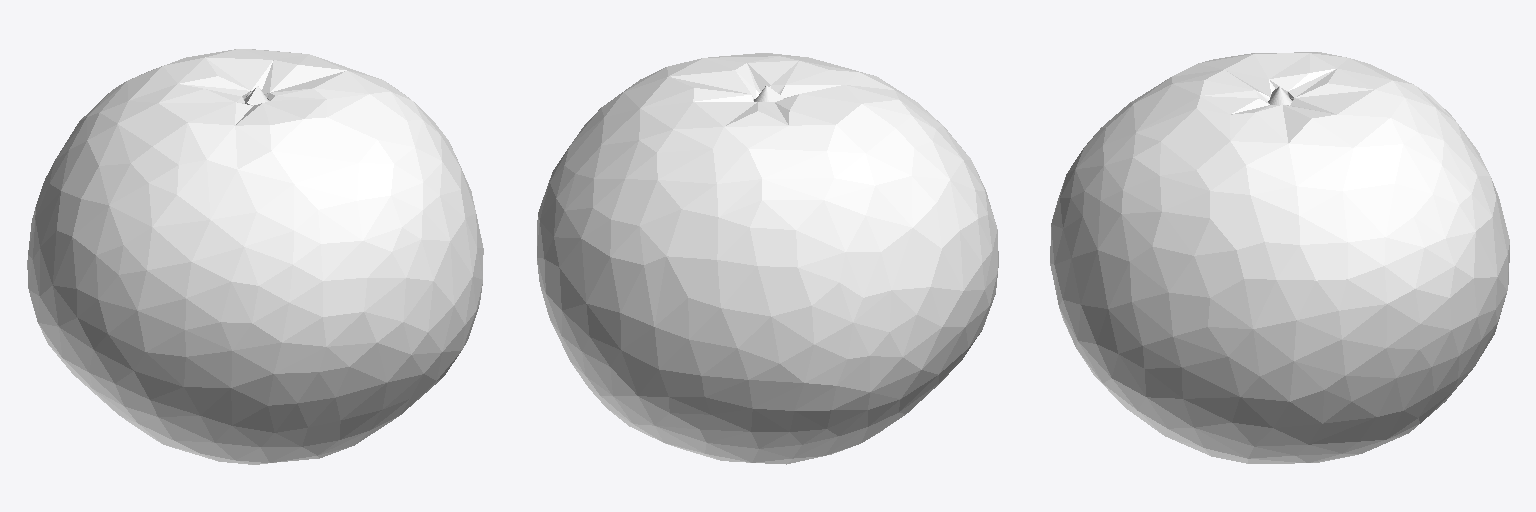
The model's file is orangeO.obj.
The picture shows the model from 3 angles: view 1: azimuth 30°, elevation 25°; view 2: azimuth 150°, elevation 25°; view 3: azimuth 270°, elevation 25°; orthographic projection.
Size of the model in its own units: 1.91 by 1.56 by 1.91.